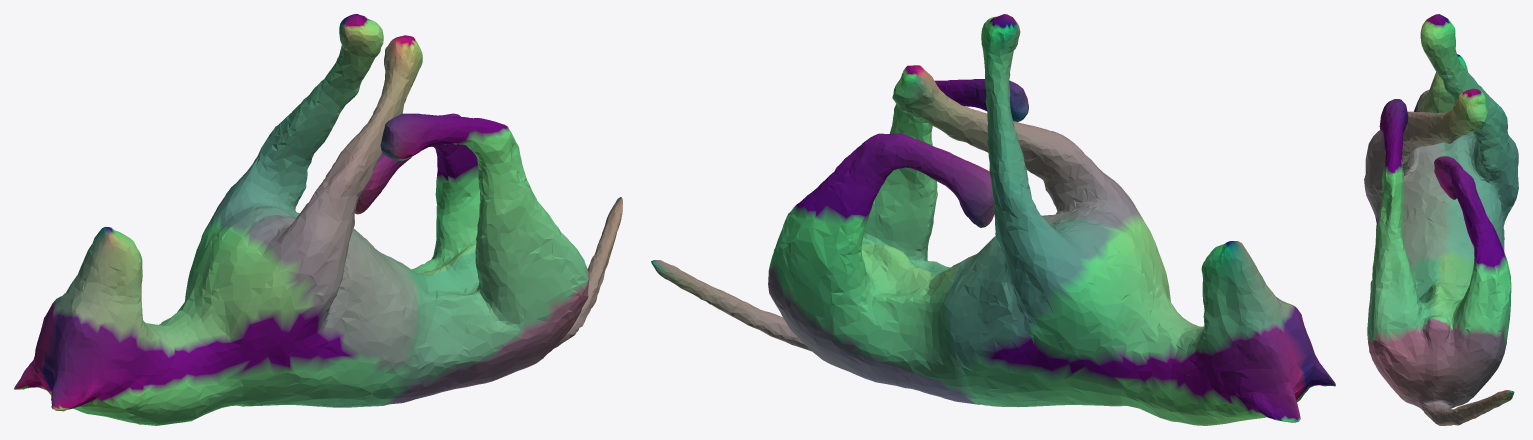
File: dog2-15.off.obj
3 views of the same model, side by side, from view 1: azimuth 30°, elevation 25°; view 2: azimuth 150°, elevation 25°; view 3: azimuth 270°, elevation 25° (orthographic). The views are drawn at different scales.
Bounding box in the file's own units: 1.65 × 0.9765 × 0.4109.
